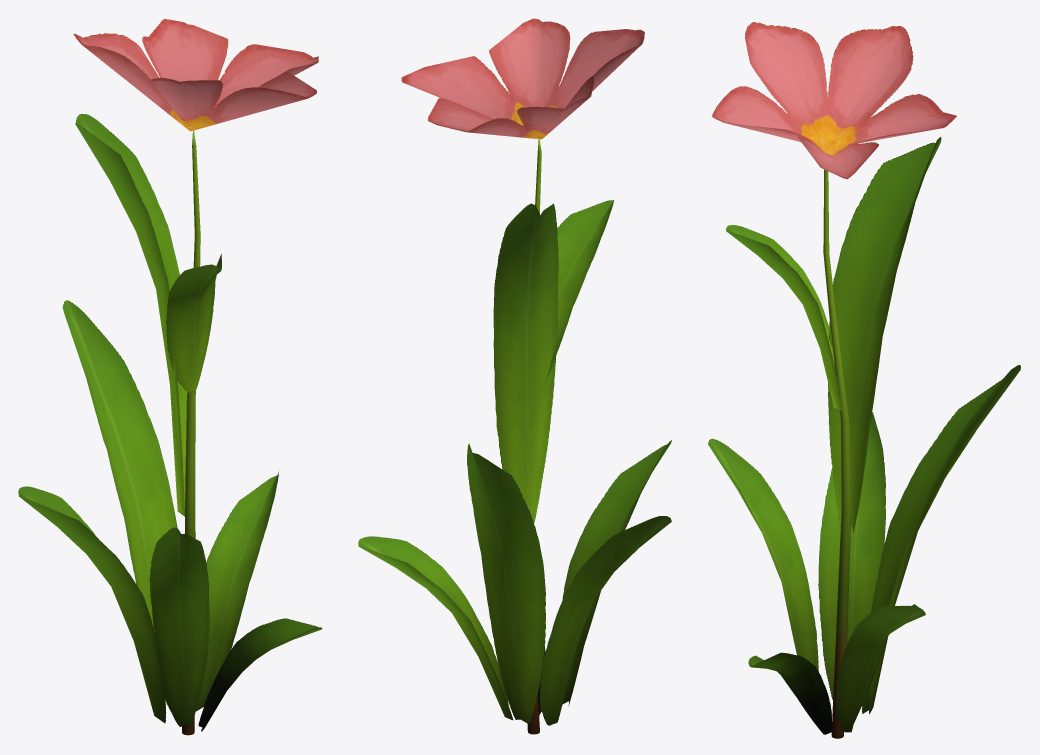
The model's file is nature-flower-3-single.glb.
The picture shows the model from 3 angles, left to right: view 1: azimuth 30°, elevation 25°; view 2: azimuth 150°, elevation 25°; view 3: azimuth 270°, elevation 25°; orthographic projection. The views are drawn at different scales.
Visible parts, largest first — view 1: Flower_3_Single; view 2: Flower_3_Single; view 3: Flower_3_Single.
Boxes of the visible parts, <box> form: Flower_3_Single: <box>18,19,322,735</box>; Flower_3_Single: <box>358,18,671,734</box>; Flower_3_Single: <box>708,22,1020,738</box>.
Bounding box in the file's own units: 0.9066 × 2.07 × 0.8775.
Materials: 2 (2 with a texture image).
